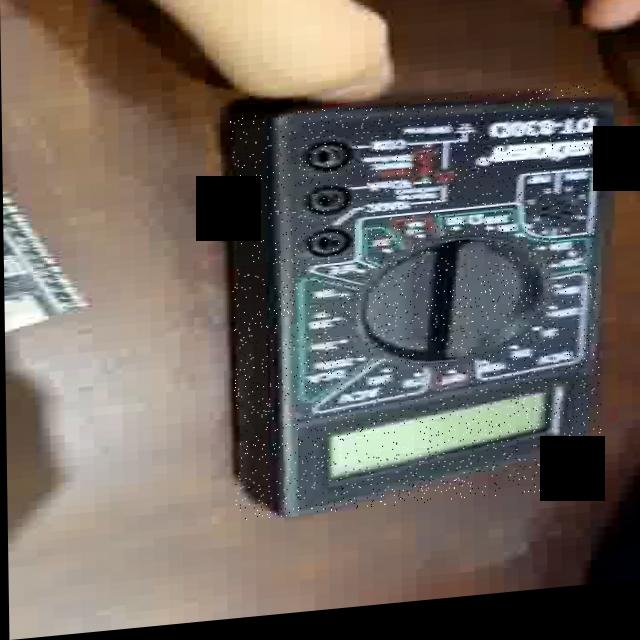multimeter: (230, 95, 600, 526)
